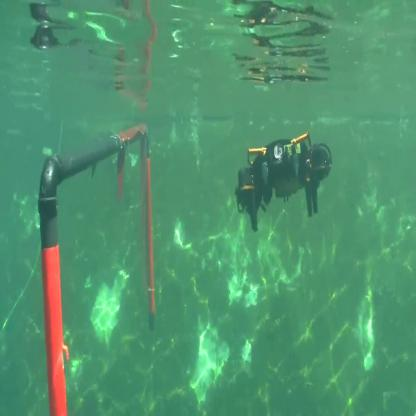gate: (35, 119, 158, 416)
